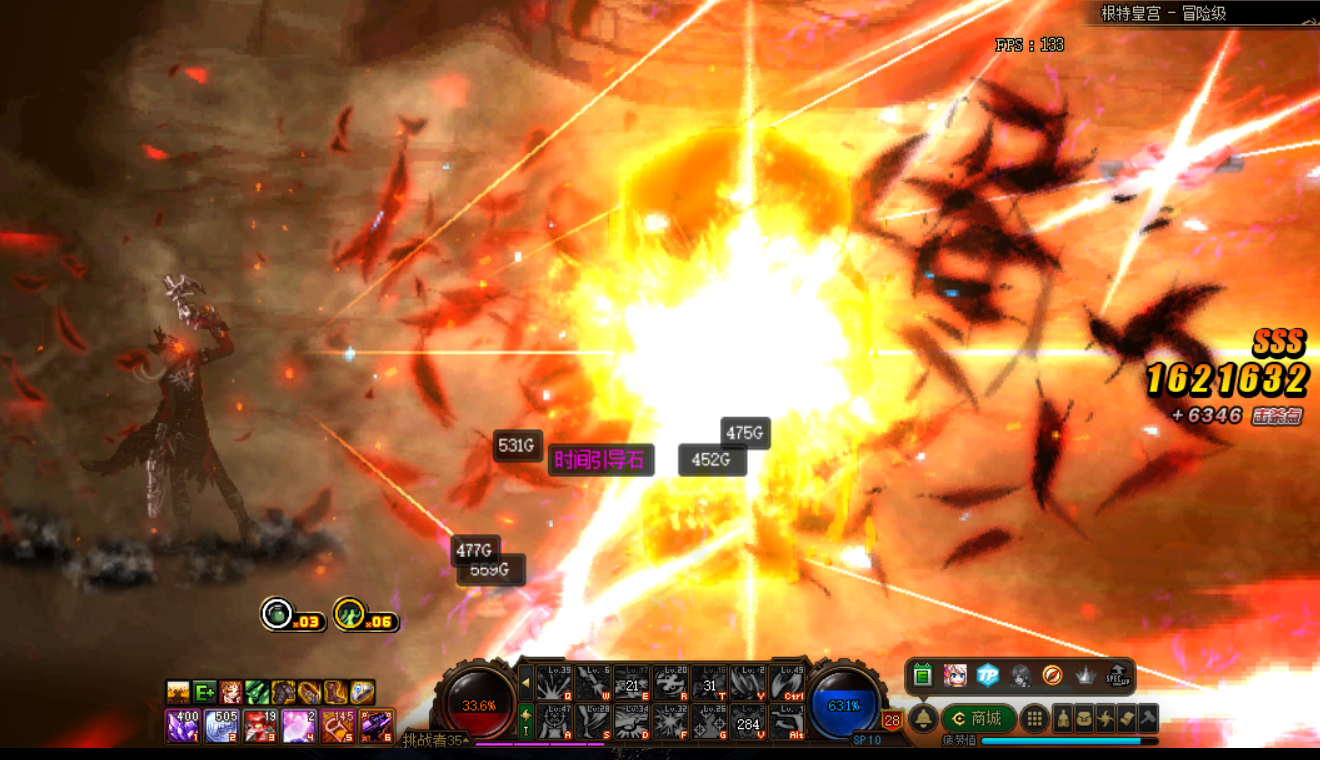warrior: (105, 286, 275, 551)
